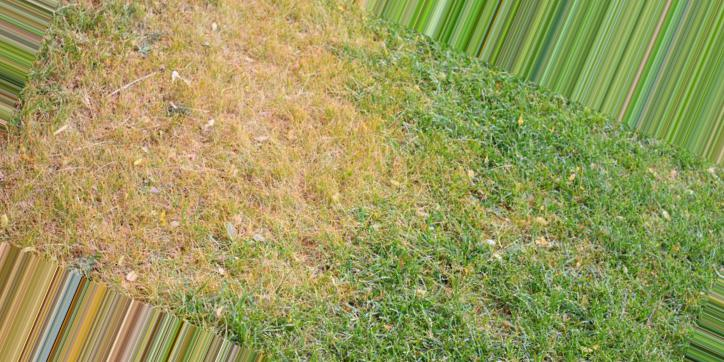patch: (123, 19, 369, 287)
